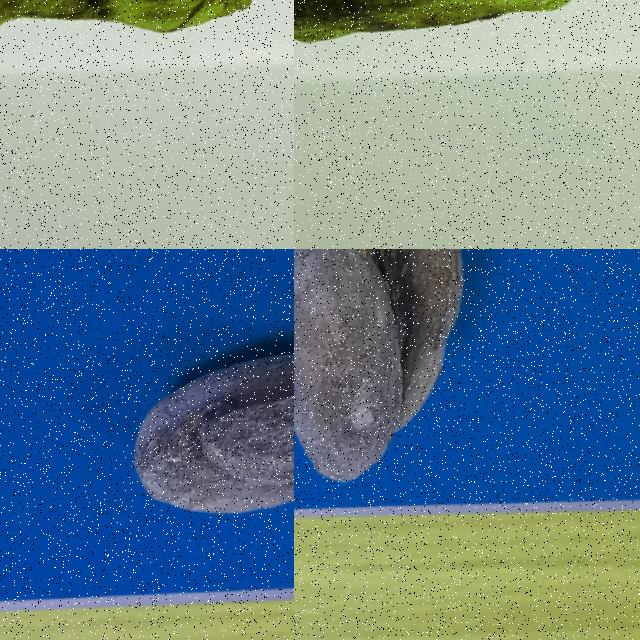Agglomerated_cocoabeans: (294, 249, 542, 548), (86, 249, 293, 583)
Flat_cocoabeans: (0, 0, 277, 110), (294, 0, 621, 87)
